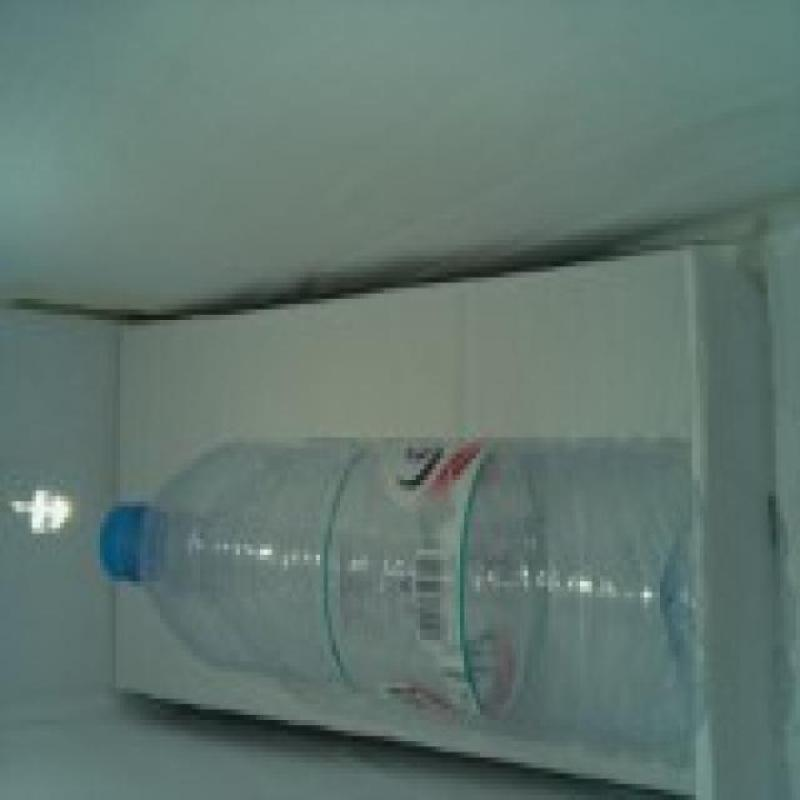botella: (98, 439, 693, 769)
